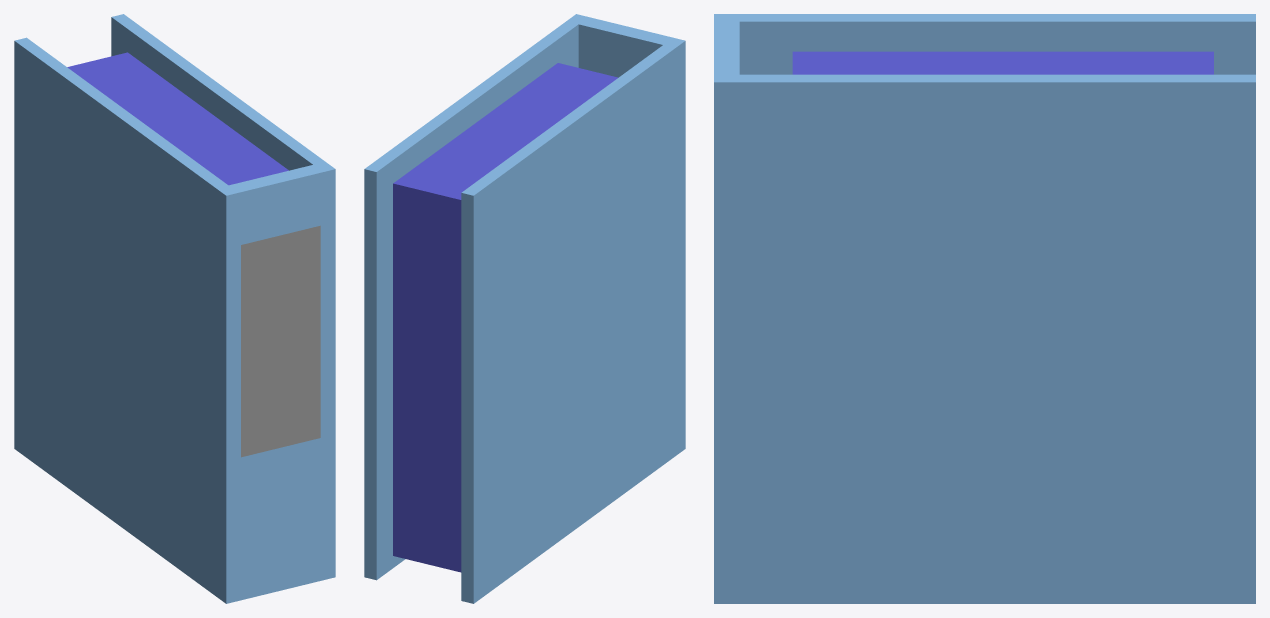
Rendered from Folder_03.fbx.
3 renders of one model, left to right at view 1: azimuth 30°, elevation 25°; view 2: azimuth 150°, elevation 25°; view 3: azimuth 270°, elevation 25°, orthographic. The views are drawn at different scales.
Parts seen in each view (by area): view 1: SM_Prop_Folder_05; view 2: SM_Prop_Folder_05; view 3: SM_Prop_Folder_05.
Part boxes in pixels (<box>): SM_Prop_Folder_05: <box>14,14,335,603</box>; SM_Prop_Folder_05: <box>364,14,685,603</box>; SM_Prop_Folder_05: <box>714,14,1255,603</box>.
Size of the model in its own units: 0.113 by 0.4029 by 0.3791.
